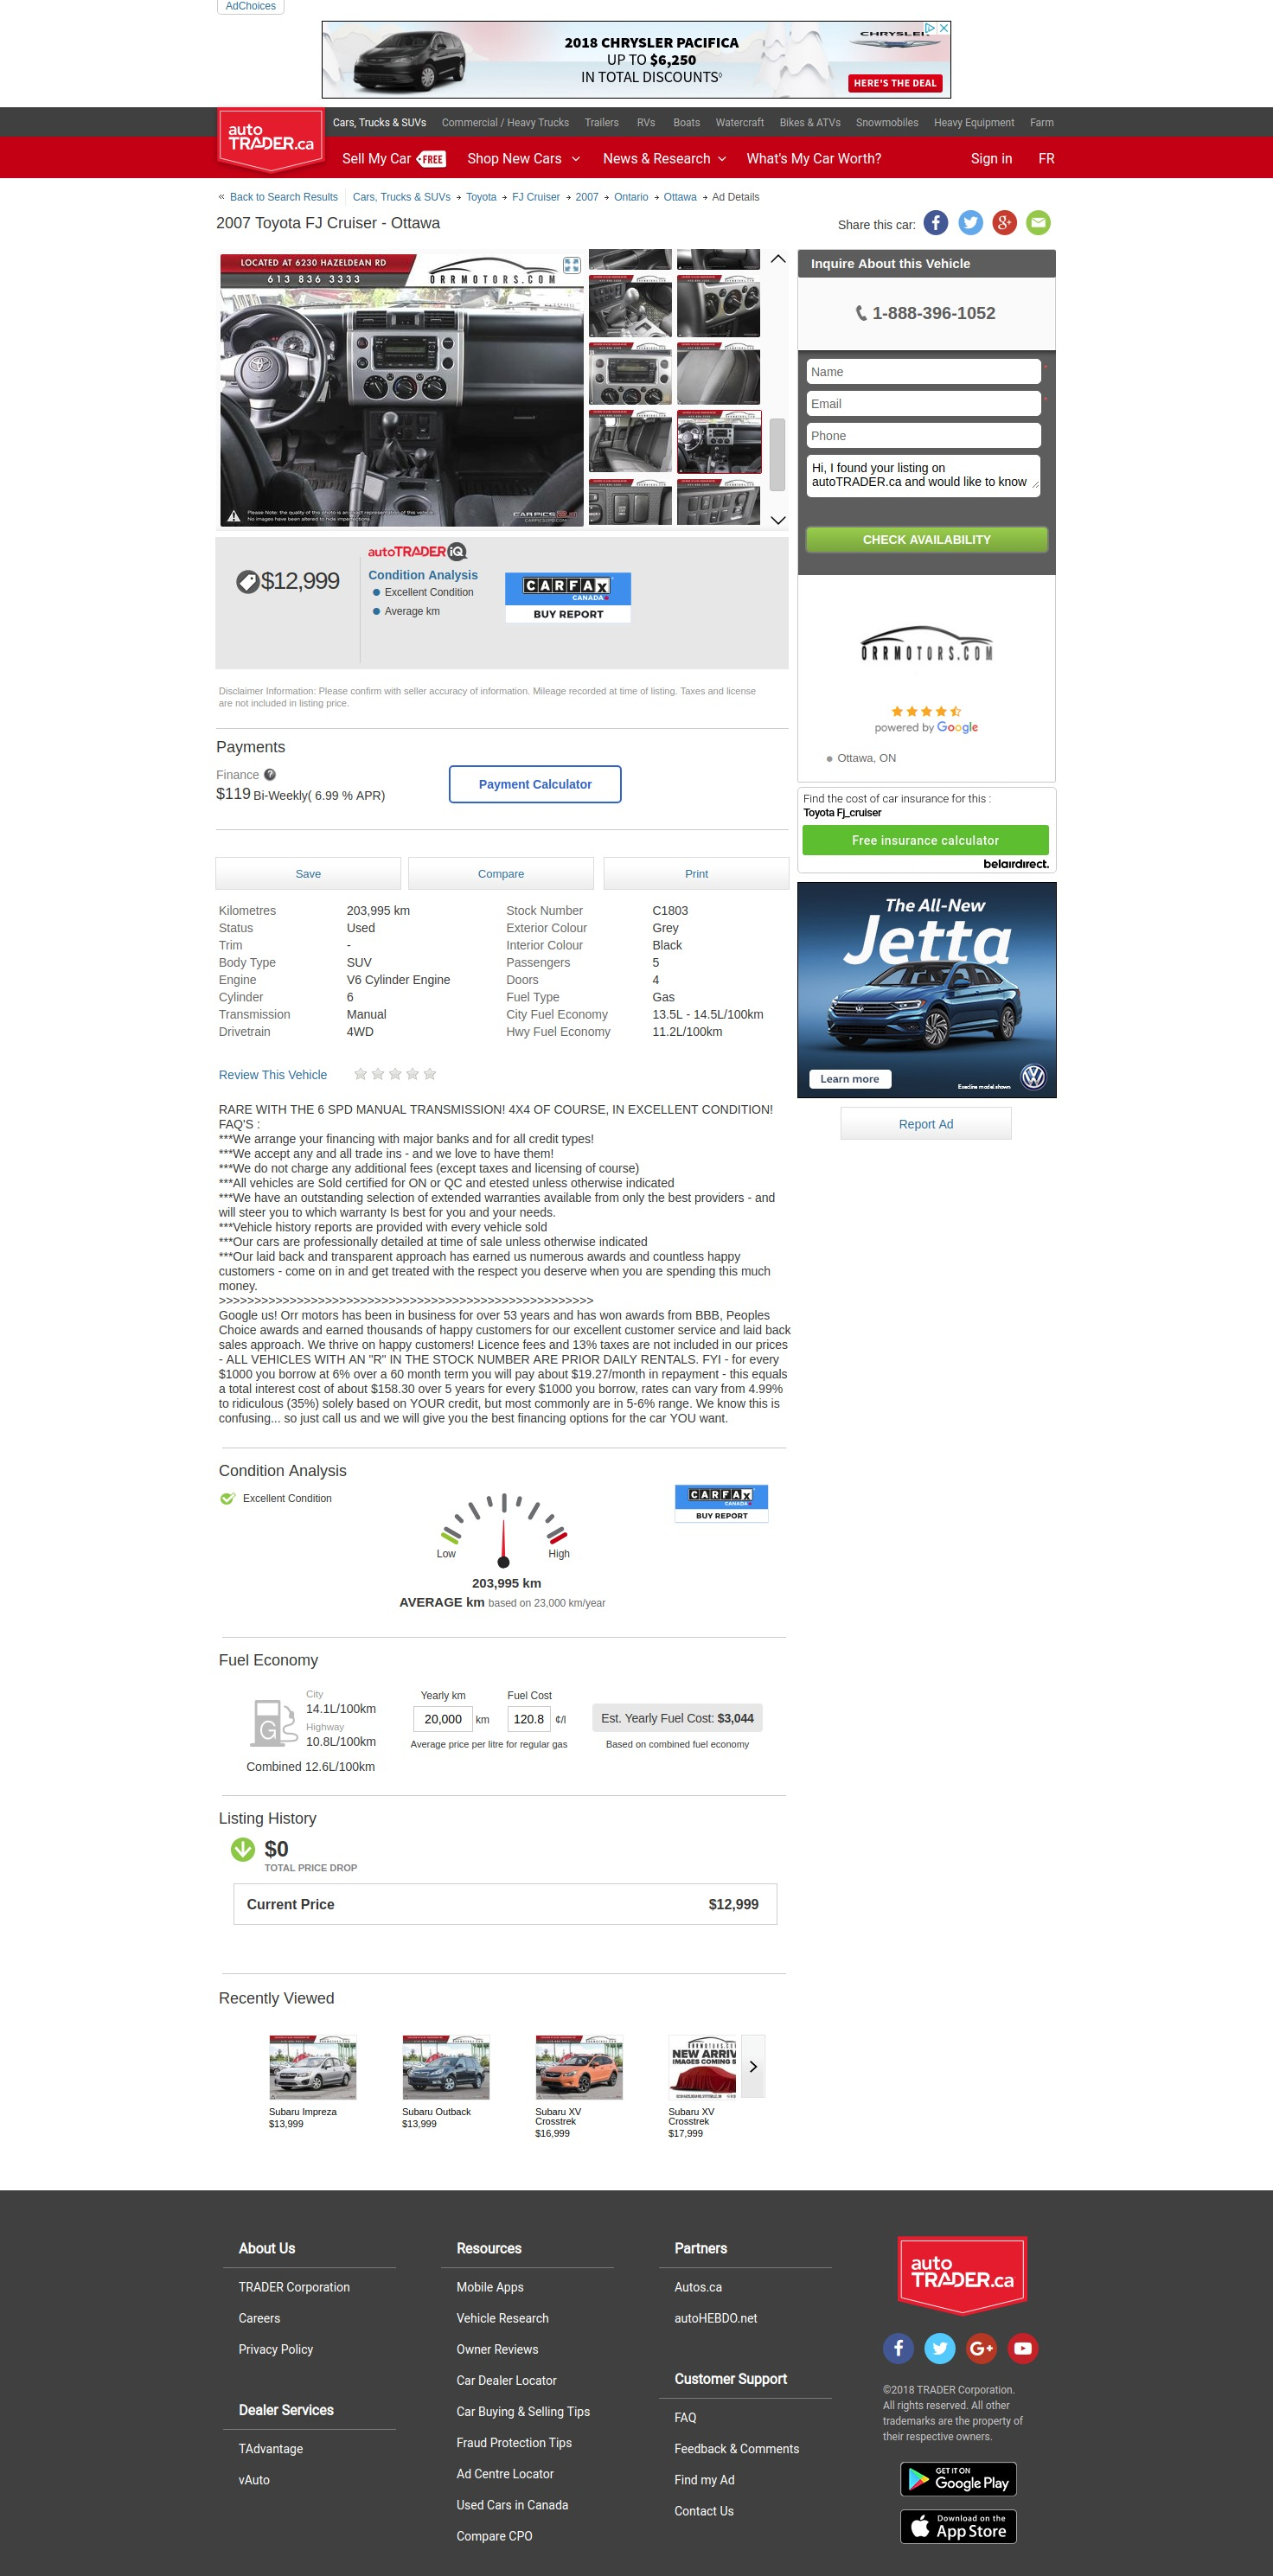car: (770, 516, 787, 526)
